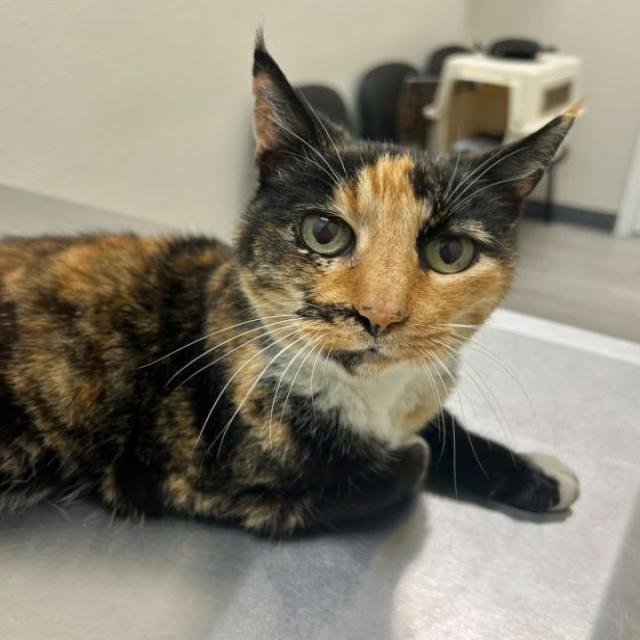calico_cat: (222, 19, 596, 424)
